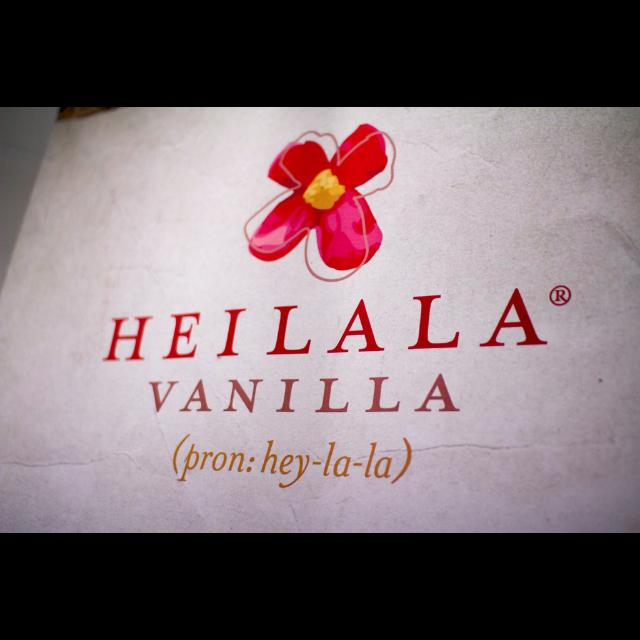Flower: (243, 118, 407, 276)
